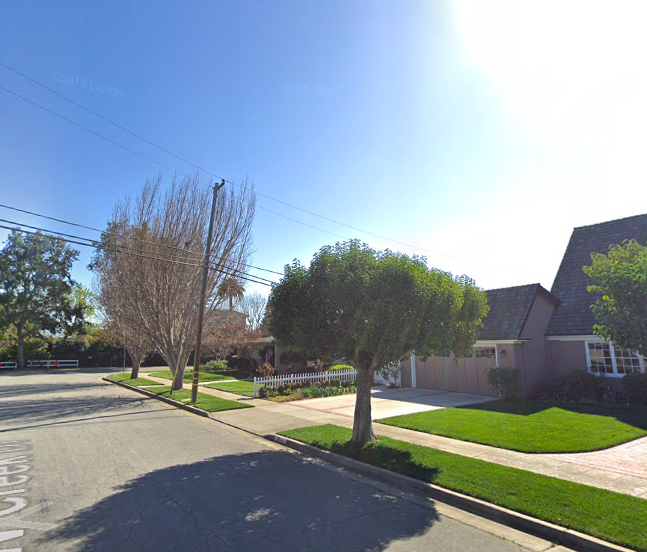tree: (265, 236, 491, 444), (93, 168, 258, 393)
